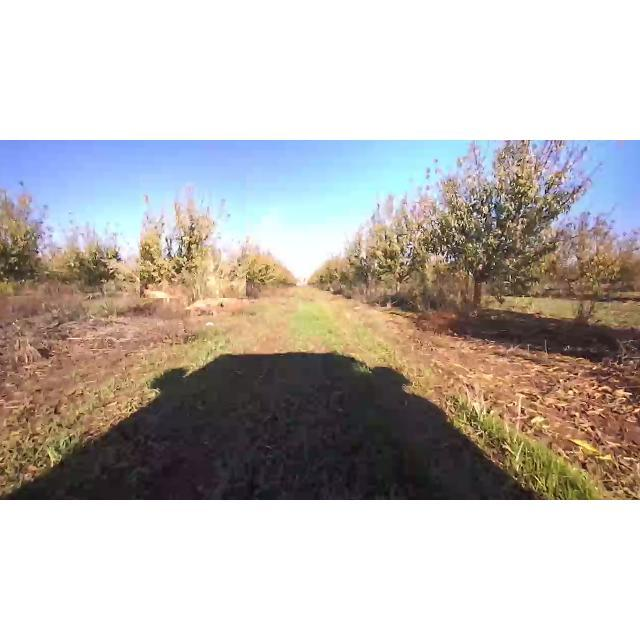tree: (410, 141, 614, 319), (140, 174, 246, 298), (362, 185, 442, 308)
